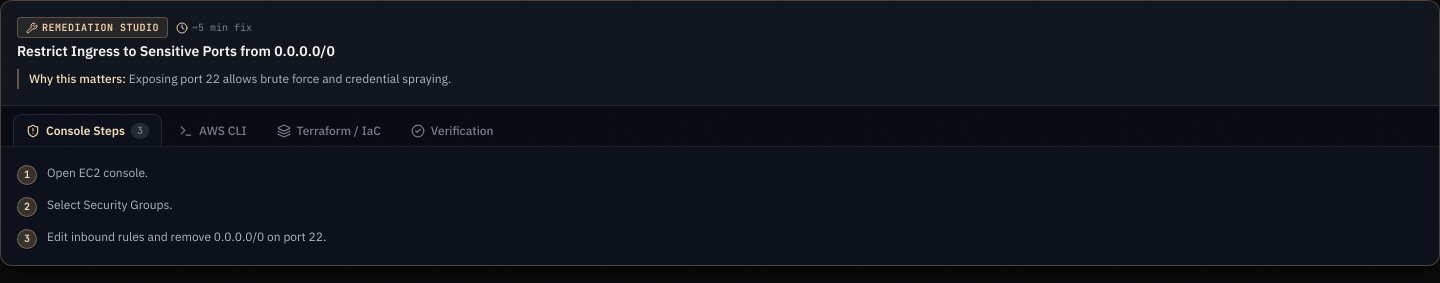
Test: RemediationStudio › copies command to clipboard when copy button is clicked
The width and height of the screenshot is (1440, 283).
Click the button "AWS CLI": (213, 130) [166,114,260,147]
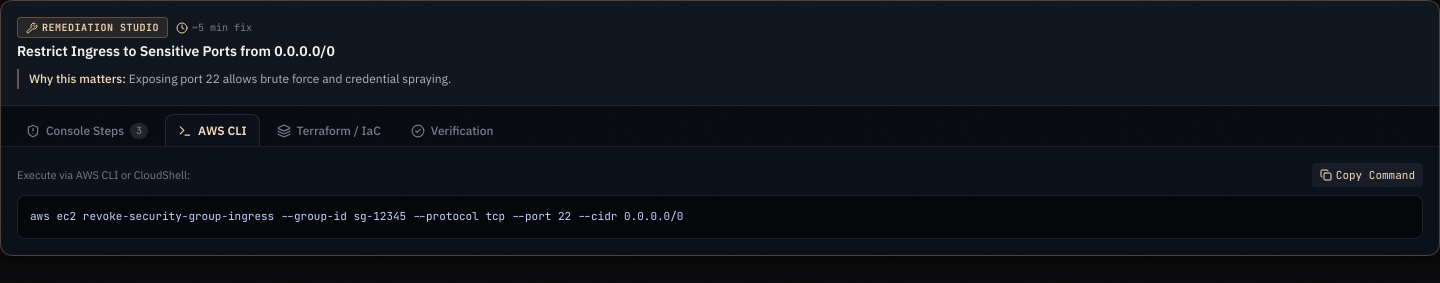
Click the button "Copy Command": (1367, 175) [1312,163,1423,187]
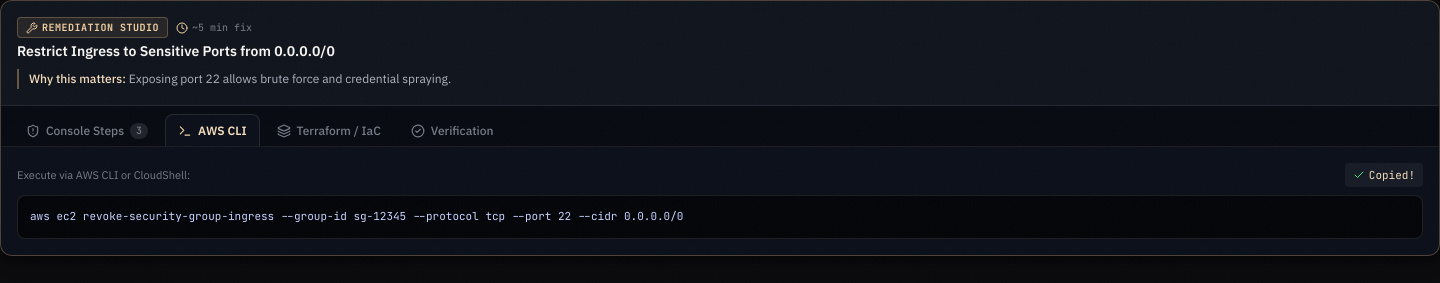
Expected: the button "Copied!" is shown, [1345,163,1423,187]
